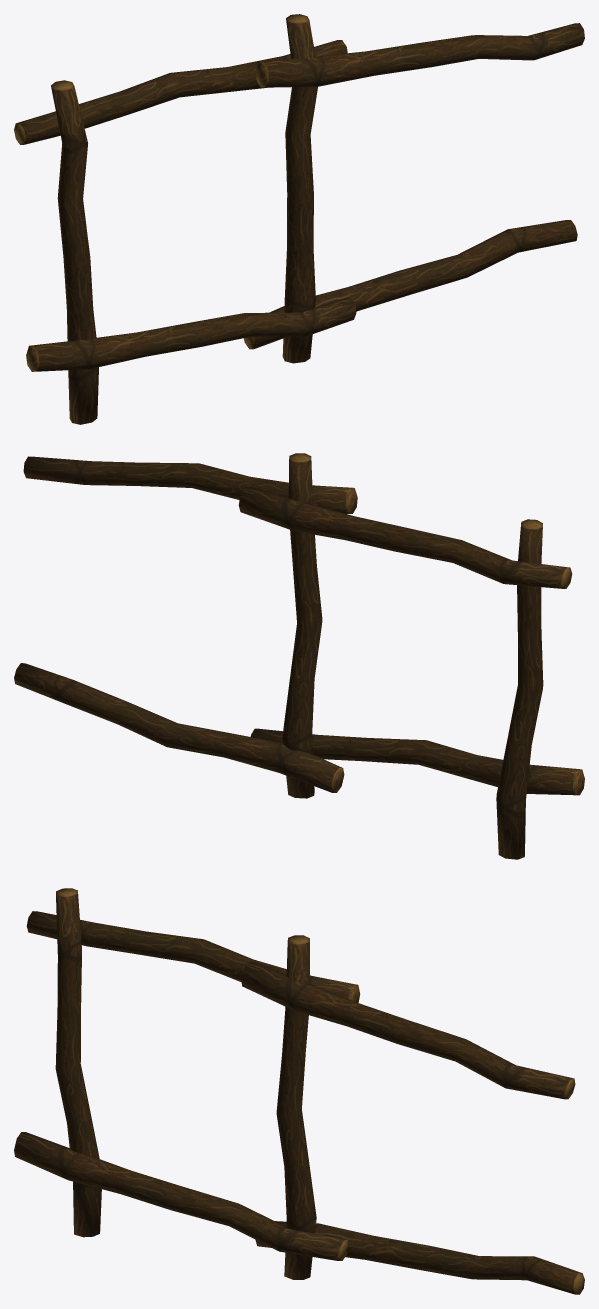
File: shared_stick_fance_01.fbx
The picture shows the model from 3 angles, top to bottom: view 1: azimuth 30°, elevation 25°; view 2: azimuth 150°, elevation 25°; view 3: azimuth 330°, elevation 25°; orthographic projection.
Parts seen in each view (by area): view 1: shared_stick_fance_01; view 2: shared_stick_fance_01; view 3: shared_stick_fance_01.
Boxes of the visible parts, bbox=[...] form: shared_stick_fance_01: bbox=[14, 14, 584, 424]; shared_stick_fance_01: bbox=[14, 453, 584, 859]; shared_stick_fance_01: bbox=[14, 888, 584, 1294].
Size of the model in its own units: 2.04 by 1.22 by 0.235.
